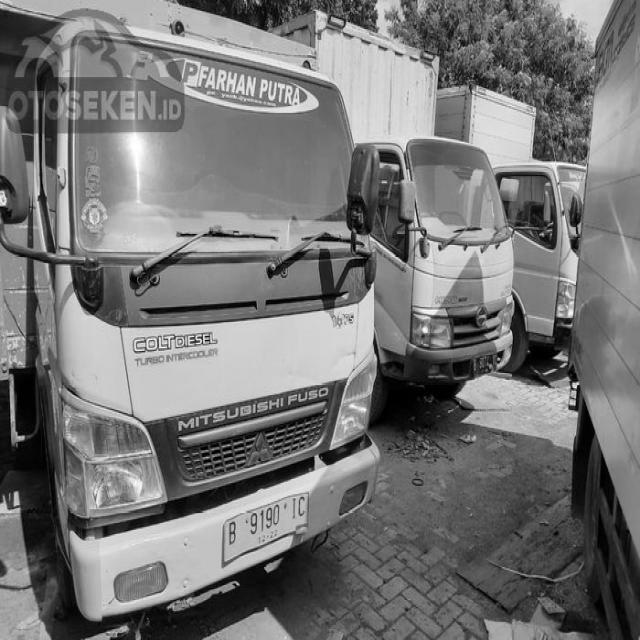truck: (1, 1, 397, 629), (356, 120, 527, 415)
